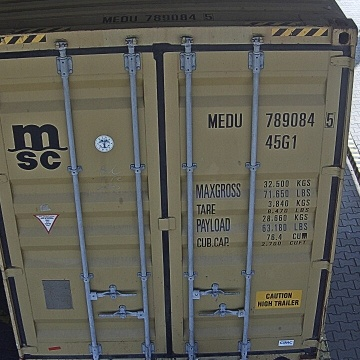serial_id: (208, 112, 335, 127)
